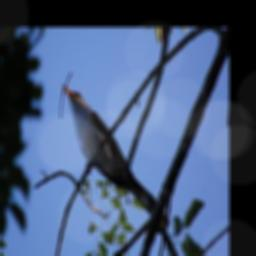Cuckoo: (59, 81, 156, 210)
